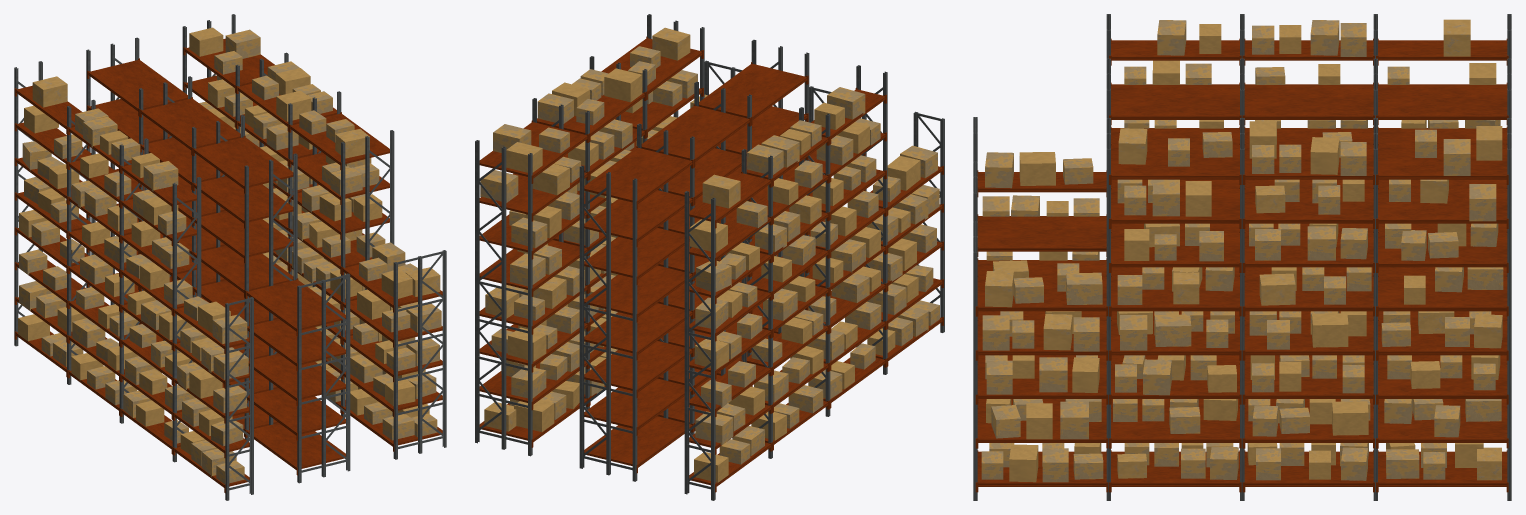
Rendered from estanteria.glb.
3 renders of one model, left to right at view 1: azimuth 30°, elevation 25°; view 2: azimuth 150°, elevation 25°; view 3: azimuth 270°, elevation 25°, orthographic. The views are drawn at different scales.
Parts seen in each view (by area): view 1: dus.570_Cube.010, mezanine_racking.005_Cube.005, dus.570_Cube.067, mezanine_racking.009_Cube.002, mezanine_racking.007_Cube.004, mezanine_racking_Cube.009, mezanine_racking.008_Cube.003, dus.570_Cube.002, mezanine_racking.004_Cube.006, dus.570_Cube.007, mezanine_racking.001_Cube.008, mezanine_racking.006_Cube.649 (+4 smaller); view 2: dus.570_Cube.010, mezanine_racking.005_Cube.005, dus.570_Cube.067, mezanine_racking.009_Cube.002, mezanine_racking_Cube.009, mezanine_racking.008_Cube.003, mezanine_racking.004_Cube.006, mezanine_racking.001_Cube.008, dus.570_Cube.002, dus.570_Cube.007, mezanine_racking.011_Cube.001, mezanine_racking.010_Cube.811; view 3: dus.570_Cube.010, mezanine_racking_Cube.009, mezanine_racking.005_Cube.005, dus.570_Cube.067, dus.570_Cube.002, mezanine_racking.003_Cube.007, mezanine_racking.007_Cube.004, mezanine_racking.001_Cube.008, mezanine_racking.009_Cube.002, dus.570_Cube.007, mezanine_racking.011_Cube.001, mezanine_racking.002_Cube.487 (+2 smaller).
Boxes of the visible parts, box(x1,y1,x2,y2) form: dus.570_Cube.010: box(19, 29, 441, 484); mezanine_racking.005_Cube.005: box(87, 58, 293, 436); dus.570_Cube.067: box(18, 68, 429, 454); mezanine_racking.009_Cube.002: box(14, 85, 196, 454); mezanine_racking.007_Cube.004: box(245, 278, 345, 475); mezanine_racking_Cube.009: box(183, 38, 389, 413); mezanine_racking.008_Cube.003: box(14, 61, 201, 462); dus.570_Cube.002: box(19, 76, 440, 394); mezanine_racking.004_Cube.006: box(86, 37, 297, 441); dus.570_Cube.007: box(49, 27, 412, 435); mezanine_racking.001_Cube.008: box(182, 14, 394, 416); mezanine_racking.006_Cube.649: box(297, 273, 350, 483); dus.570_Cube.010: box(480, 46, 939, 464); mezanine_racking.005_Cube.005: box(584, 62, 808, 473); dus.570_Cube.067: box(508, 68, 920, 482); mezanine_racking.009_Cube.002: box(689, 88, 886, 492); mezanine_racking_Cube.009: box(479, 36, 703, 447); mezanine_racking.008_Cube.003: box(684, 65, 887, 500); mezanine_racking.004_Cube.006: box(579, 39, 809, 481); mezanine_racking.001_Cube.008: box(475, 14, 704, 456); dus.570_Cube.002: box(484, 27, 910, 431); dus.570_Cube.007: box(506, 129, 918, 415); mezanine_racking.011_Cube.001: box(870, 166, 943, 366); mezanine_racking.010_Cube.811: box(913, 111, 944, 332); dus.570_Cube.010: box(981, 20, 1503, 482); mezanine_racking_Cube.009: box(1109, 142, 1508, 492); mezanine_racking.005_Cube.005: box(1109, 83, 1508, 407); dus.570_Cube.067: box(986, 24, 1500, 482); dus.570_Cube.002: box(985, 19, 1502, 480); mezanine_racking.003_Cube.007: box(975, 274, 1108, 492); mezanine_racking.007_Cube.004: box(977, 215, 1106, 407); mezanine_racking.001_Cube.008: box(1106, 118, 1511, 500); mezanine_racking.009_Cube.002: box(1109, 38, 1508, 128); dus.570_Cube.007: box(993, 25, 1502, 479); mezanine_racking.011_Cube.001: box(977, 170, 1106, 260); mezanine_racking.002_Cube.487: box(973, 221, 977, 500).
Size of the model in its own units: 504 by 600 by 833.
6 materials, 6 textured.
